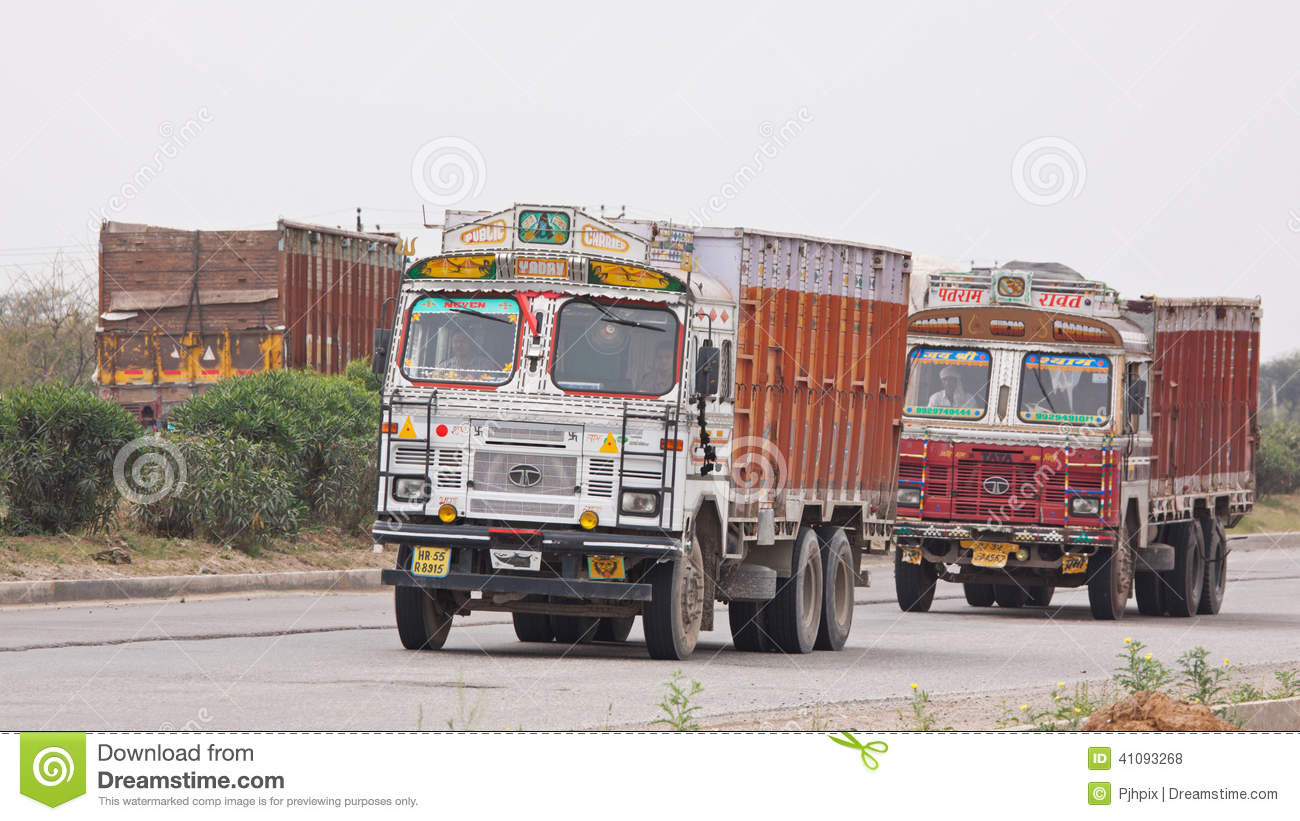truck: (375, 212, 897, 656), (892, 260, 1258, 620), (95, 221, 380, 424)
